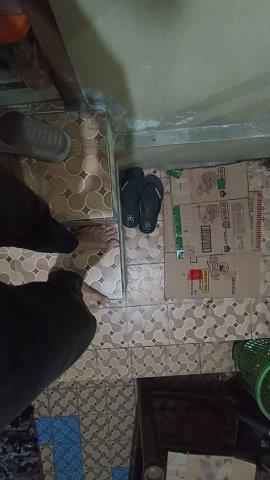kardus: (164, 164, 261, 297)
